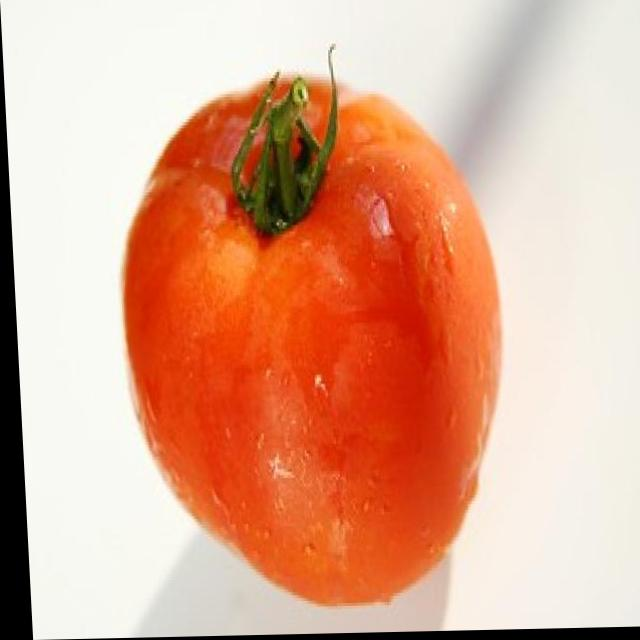sari: (90, 49, 558, 626)
